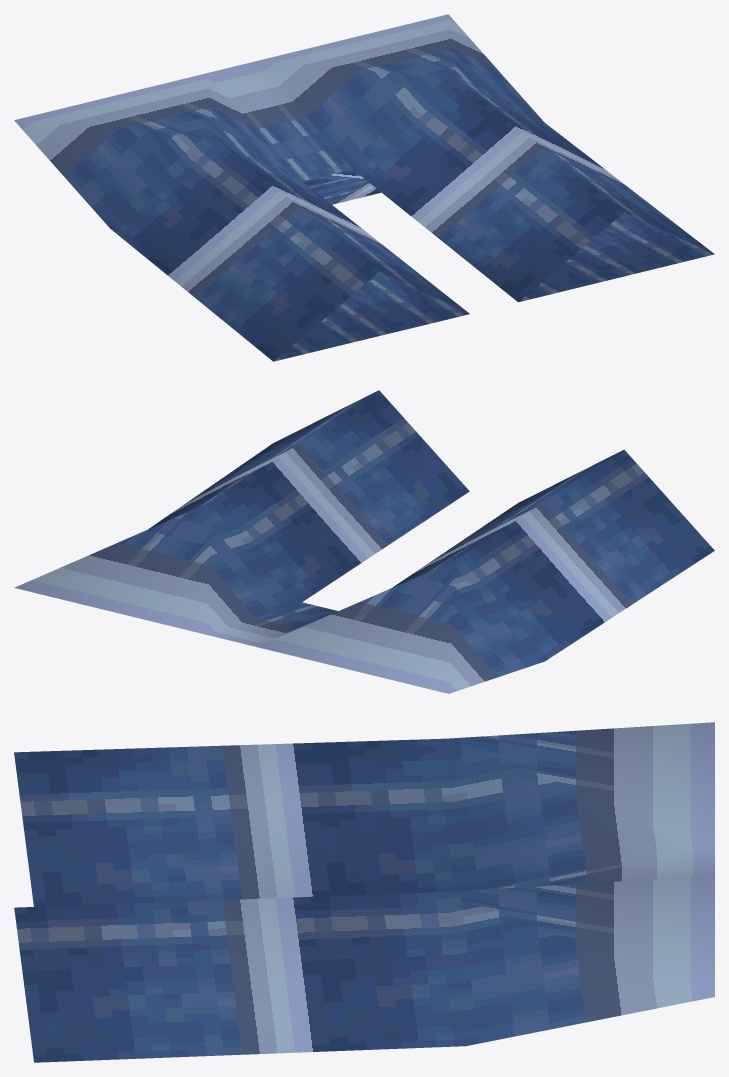
The model's file is 2068pants000_r.gltf.
The picture shows the model from 3 angles, top to bottom: view 1: azimuth 30°, elevation 25°; view 2: azimuth 150°, elevation 25°; view 3: azimuth 270°, elevation 25°; orthographic projection. The views are drawn at different scales.
Parts seen in each view (by area): view 1: 2068pants000_r; view 2: 2068pants000_r; view 3: 2068pants000_r.
Part boxes in pixels (x1,y1,x2,y2): 2068pants000_r: (14, 14, 714, 361); 2068pants000_r: (14, 390, 714, 693); 2068pants000_r: (14, 722, 714, 1062).
Bounding box in the file's own units: 0.7793 × 0.1667 × 0.8264.
Materials: 1 (1 with a texture image).
